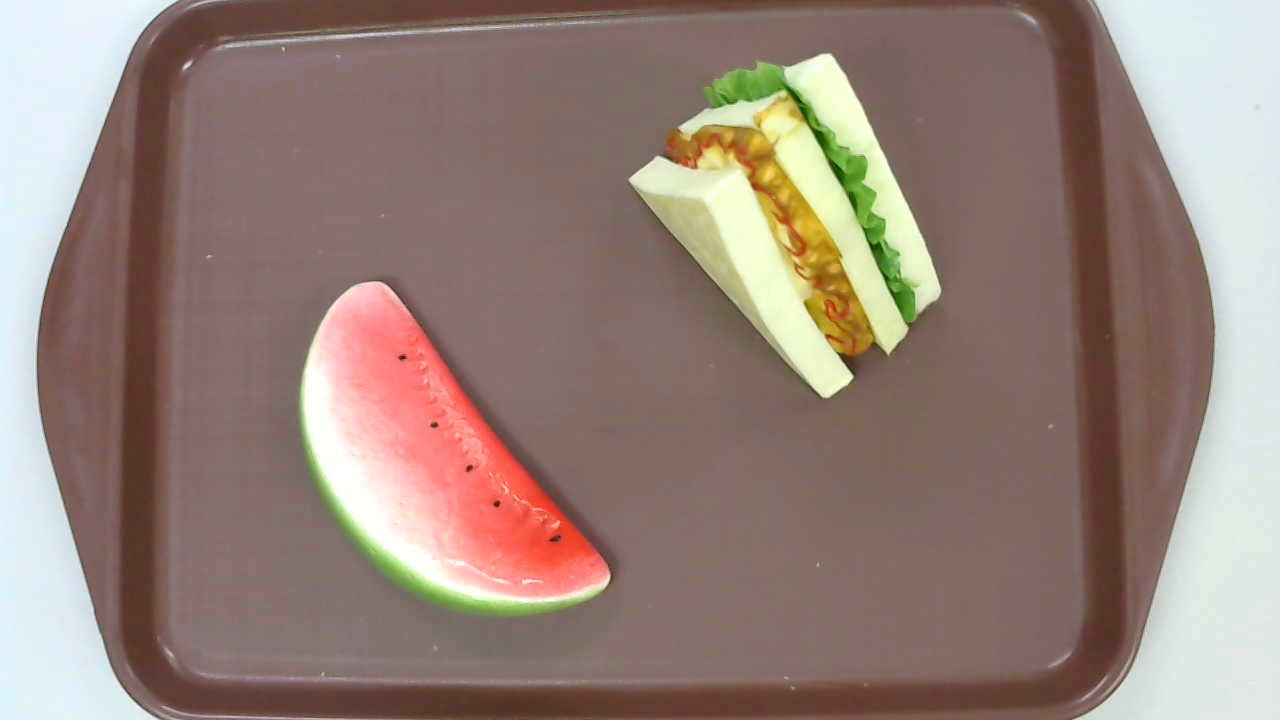sandwich: (628, 52, 942, 399)
water melon: (297, 281, 612, 619)
